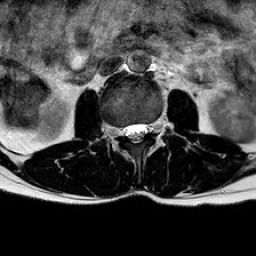CCS_normal: (131, 113, 139, 152)
LFS_normal: (148, 109, 156, 141)
LLS_normal: (139, 114, 148, 145)
RFS_normal: (115, 114, 123, 145)
RLS_normal: (123, 115, 131, 146)
